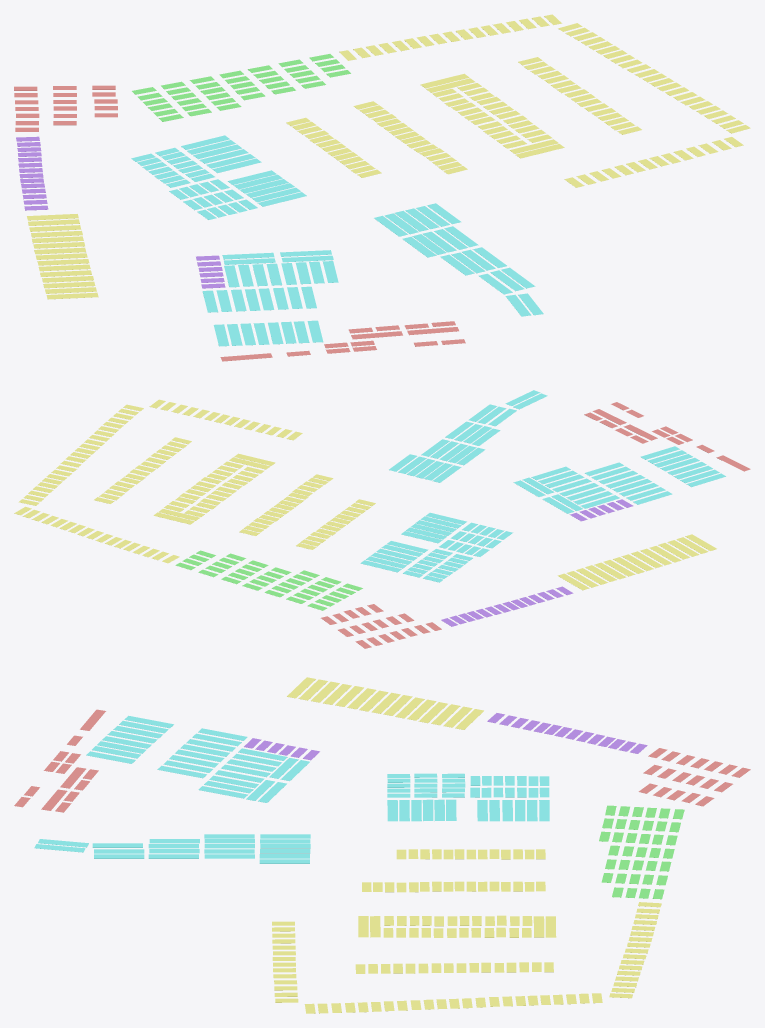
The model's file is mapping-bayur.glb.
3 views of the same model, one above another, from view 1: azimuth 30°, elevation 25°; view 2: azimuth 150°, elevation 25°; view 3: azimuth 270°, elevation 25° (orthographic). The views are drawn at different scales.
Size of the model in its own units: 75.54 by 0.0111 by 69.93.
